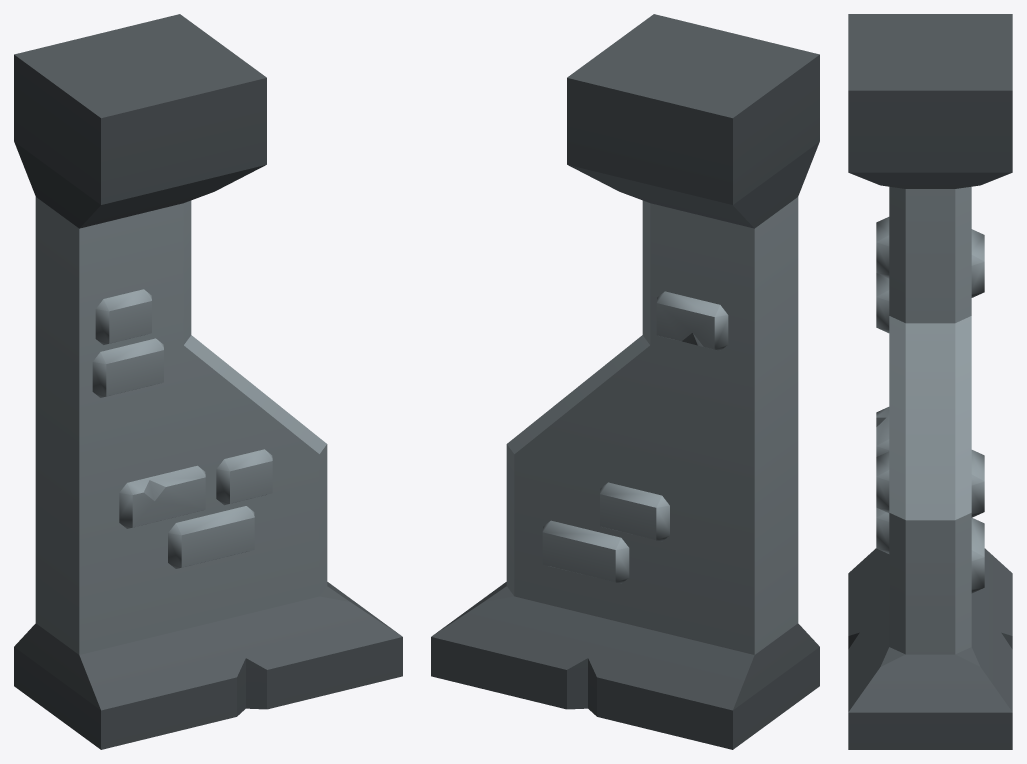
Rendered from wall_half_endcap_sloped.obj.
3 views of the same model, side by side, from view 1: azimuth 30°, elevation 25°; view 2: azimuth 150°, elevation 25°; view 3: azimuth 270°, elevation 25° (orthographic). The views are drawn at different scales.
Parts seen in each view (by area): view 1: wall_half_endcap_sloped; view 2: wall_half_endcap_sloped; view 3: wall_half_endcap_sloped.
Part boxes in pixels (<box>): wall_half_endcap_sloped: <box>14,14,402,749</box>; wall_half_endcap_sloped: <box>431,14,819,749</box>; wall_half_endcap_sloped: <box>848,14,1012,749</box>.
Size of the model in its own units: 2 by 4 by 1.
Materials: 1 (1 with a texture image).
